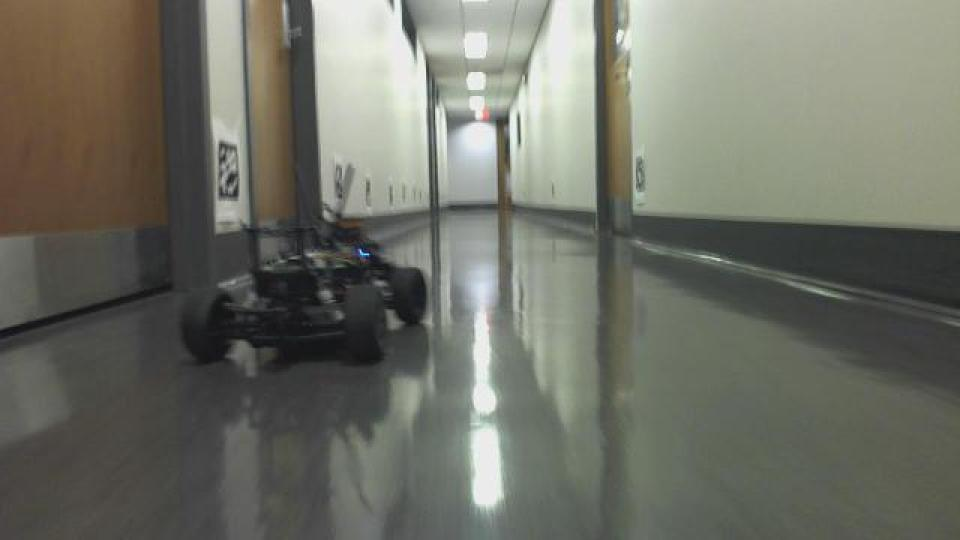car: (175, 201, 429, 372)
